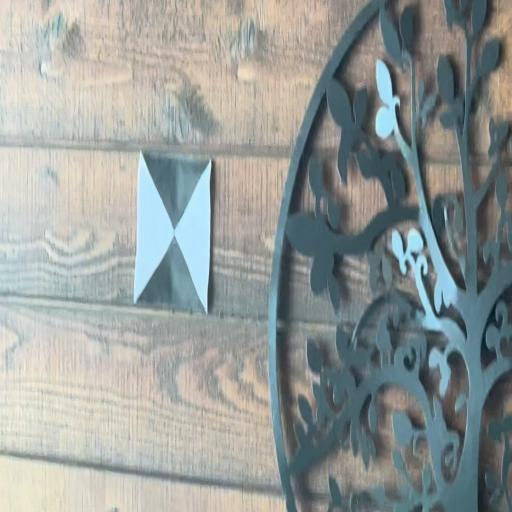target: (131, 155, 211, 313)
